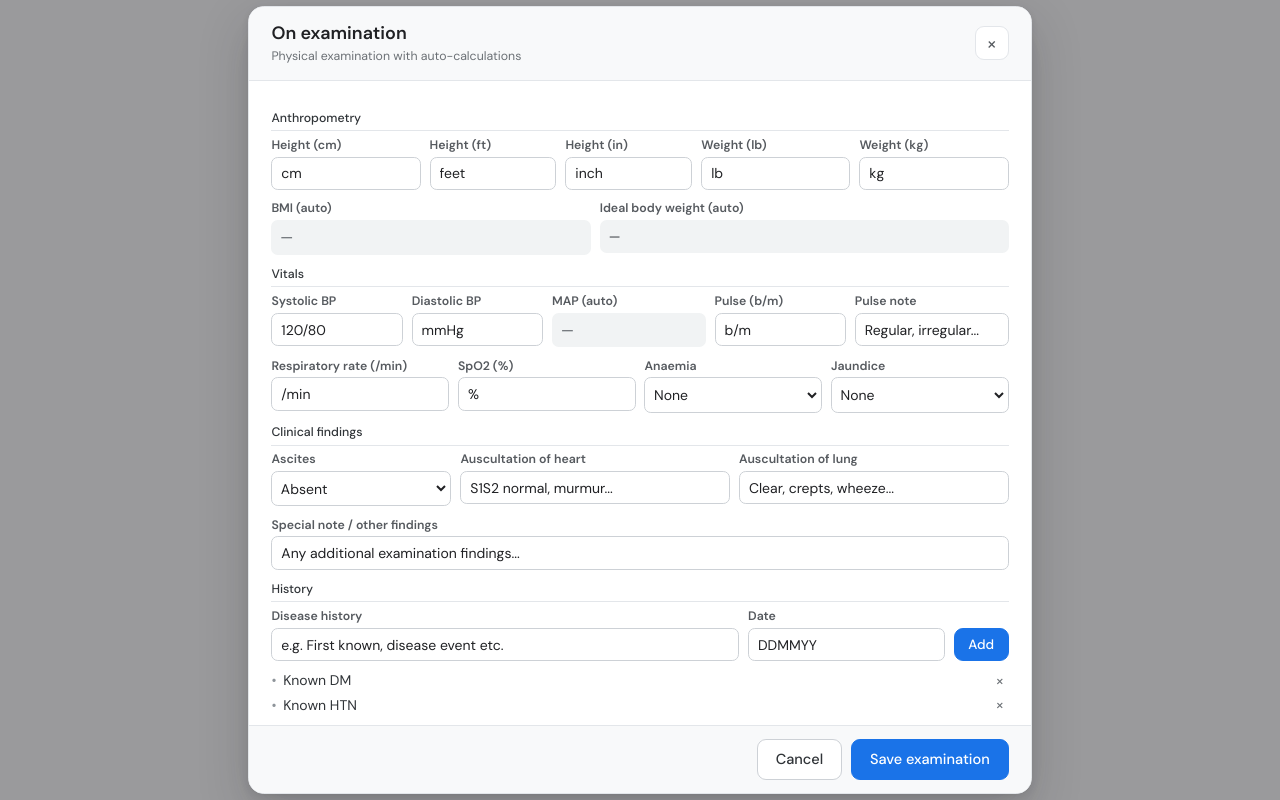
it: On examination — dated history entries › × takes off that one entry
Click the button named "Remove “Known DM”" at (1000, 680), box [991,673,1009,688]
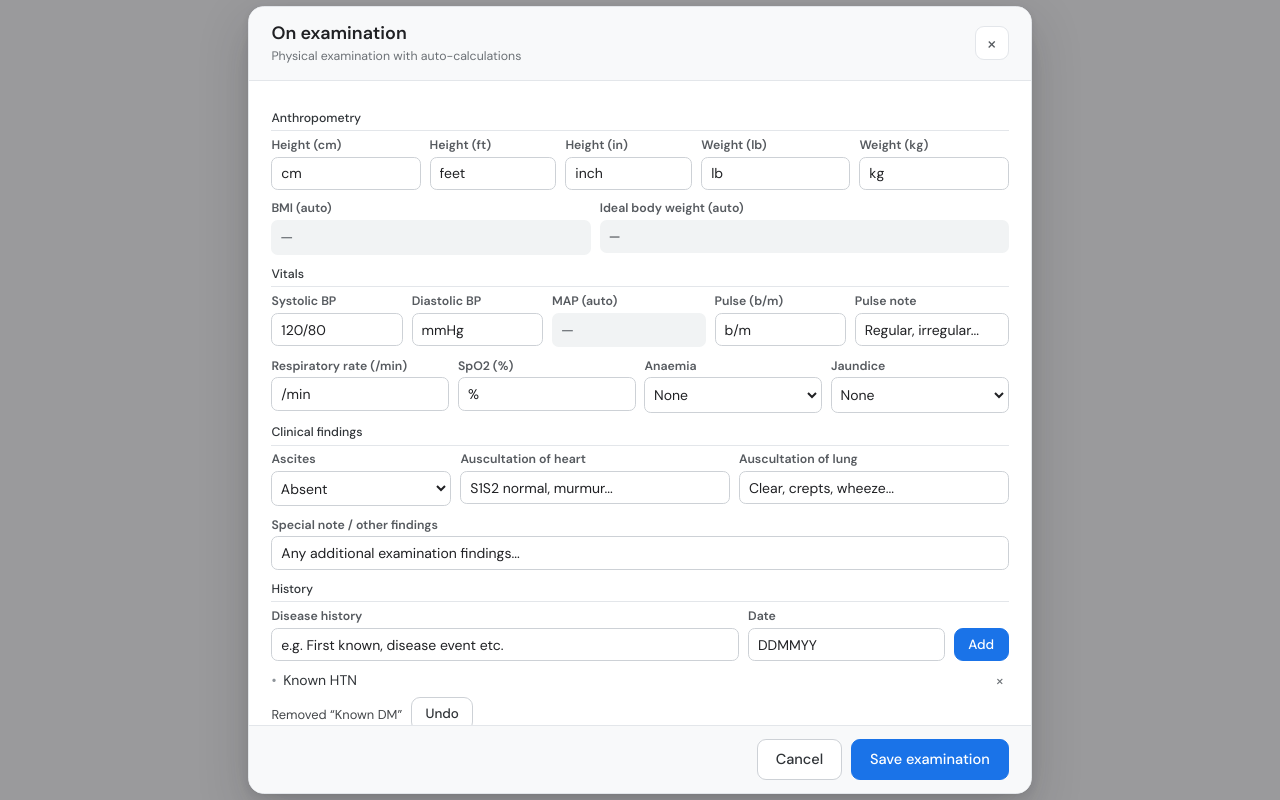
Now the text "Known HTN" is shown, box [283,671,357,689]
